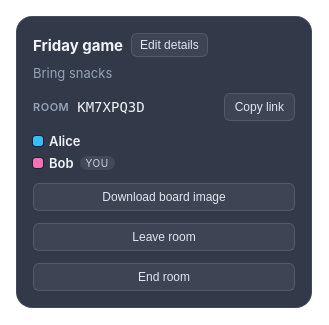
Test: RoomHud › shows the room code and copies a shareable link
Expected: the text "KM7XPQ3D" is shown, [77,99,145,115]
Click the button "Copy link" at (259, 107), box [224,93,295,121]
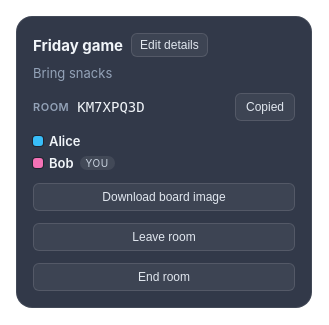
Result: the button "Copied" is shown at [235,93,295,121]
